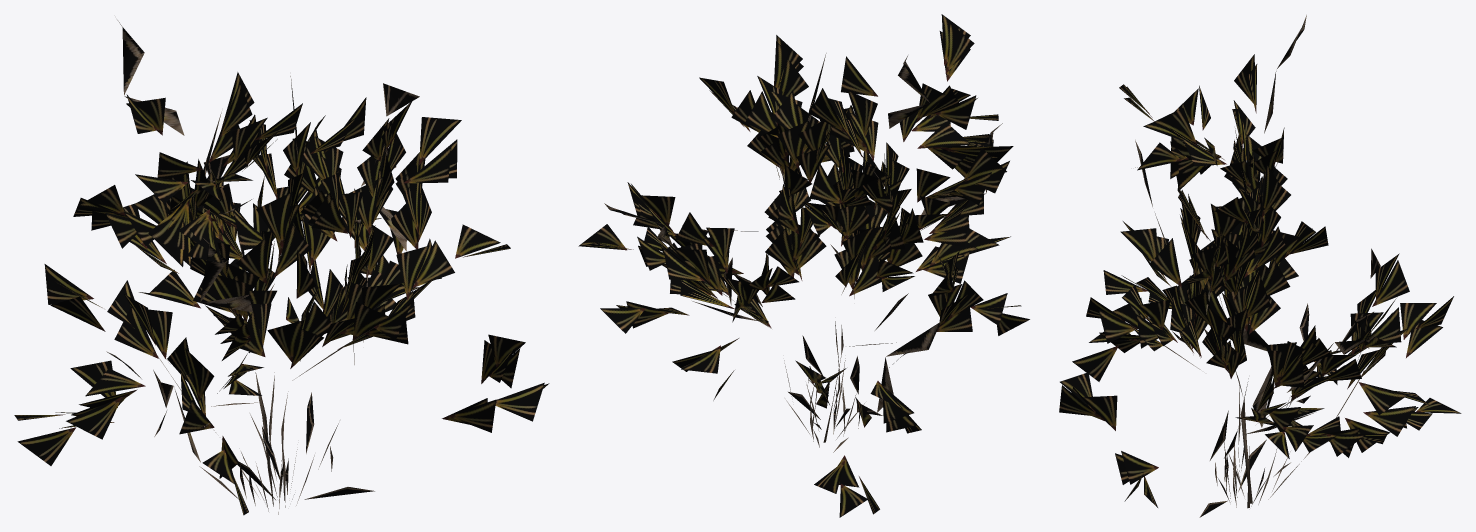
Rendered from bush_b_far.gltf.
The picture shows the model from 3 angles, left to right: view 1: azimuth 30°, elevation 25°; view 2: azimuth 150°, elevation 25°; view 3: azimuth 270°, elevation 25°; orthographic projection. The views are drawn at different scales.
Visible parts, largest first — view 1: bush_b_far; view 2: bush_b_far; view 3: bush_b_far.
Boxes of the visible parts, left/top/right/bottom form: bush_b_far: left=14, top=20, right=549, bottom=515; bush_b_far: left=578, top=14, right=1029, bottom=517; bush_b_far: left=1059, top=15, right=1461, bottom=517.
Bounding box in the file's own units: 1.06 × 1.1 × 0.9187.
3 materials, 3 textured.
